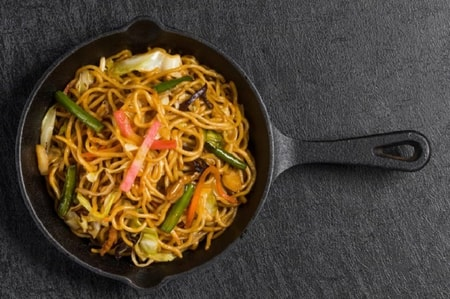Mie: (27, 66, 273, 256)
